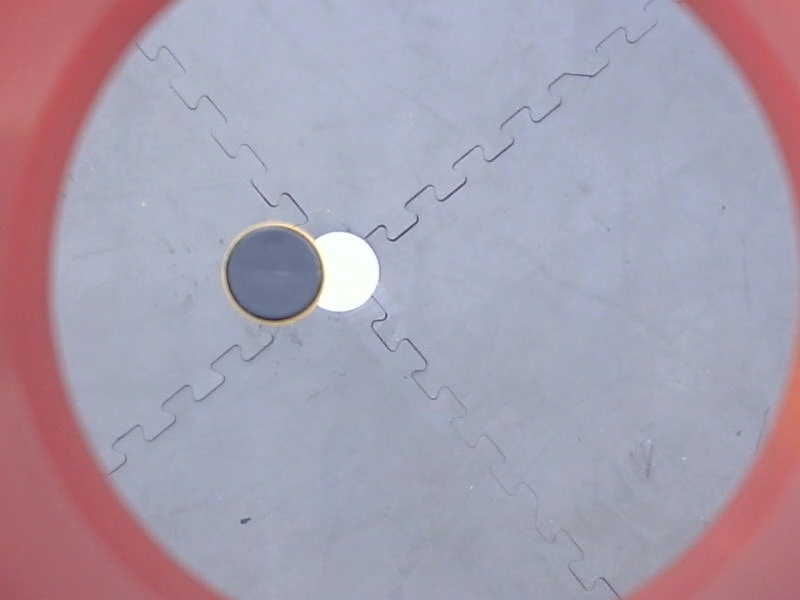tip: (216, 218, 331, 329)
